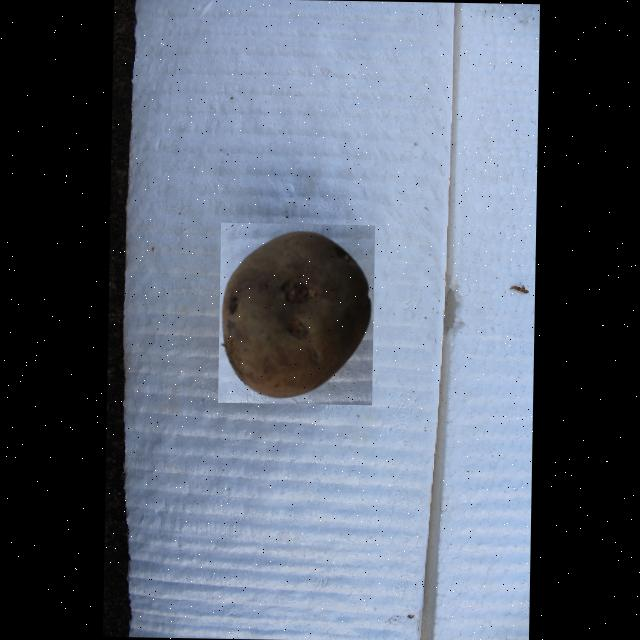Diseased-fungal potato: (216, 222, 374, 405)
